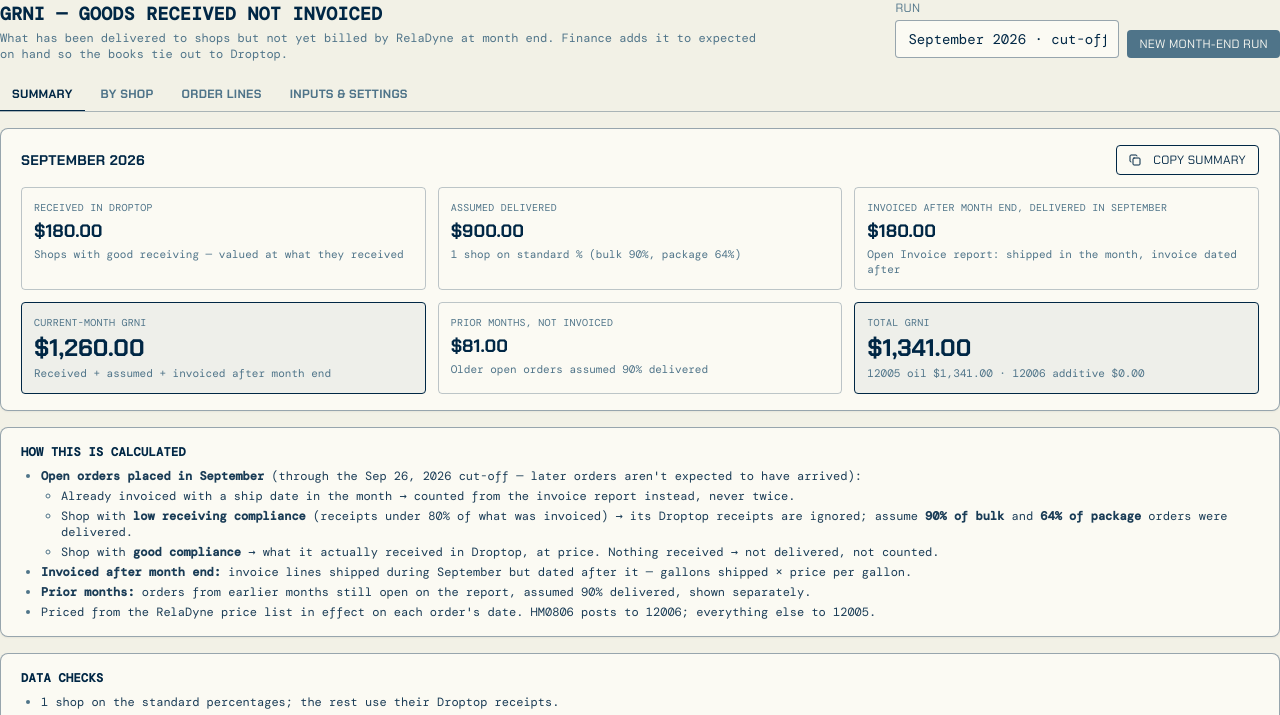
GrniPage › values received, assumed, invoiced-after and prior-month lines
Expected: the text "Current-month GRNI" is shown, top-left (34, 316), bottom-right (146, 329)
Expected: the text "$1,260.00" is shown, top-left (34, 332), bottom-right (145, 363)
# by shop: shop 20 is on the standard percentages
Click the tab "By Shop": click(127, 95) top-left (89, 78), bottom-right (166, 112)
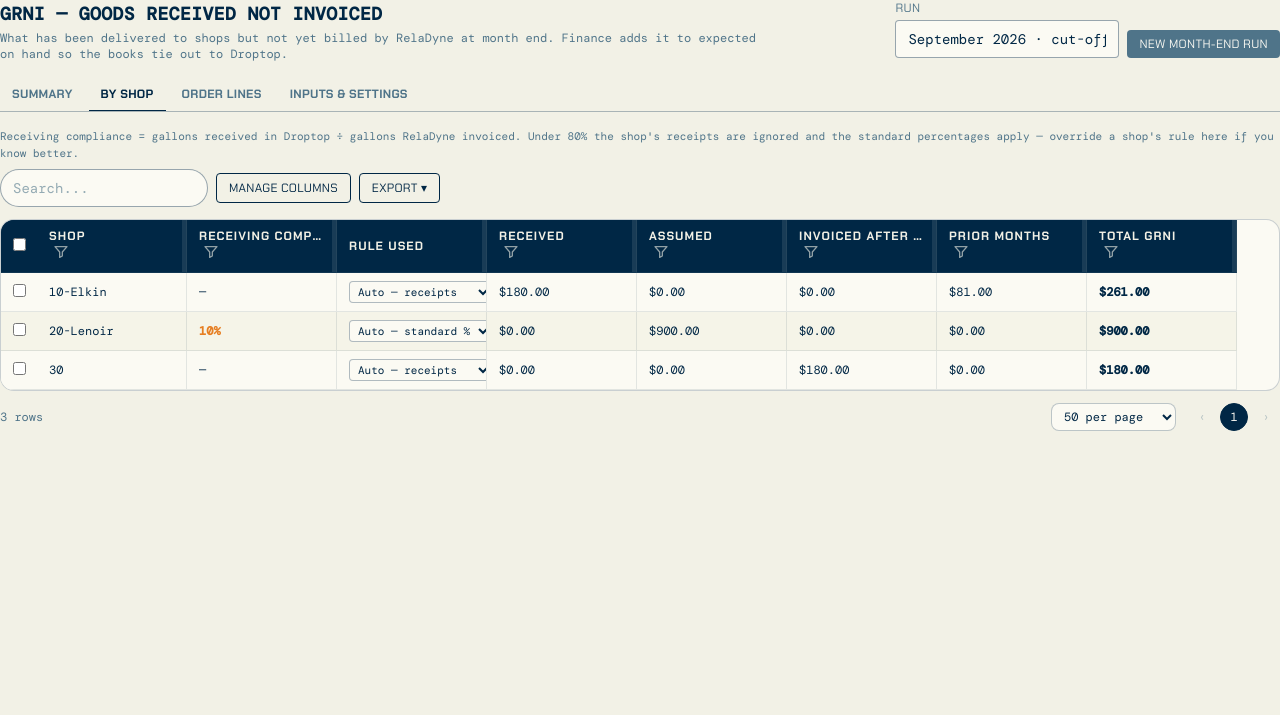
Expected: the text "20-Lenoir" is shown, top-left (37, 312), bottom-right (187, 351)
